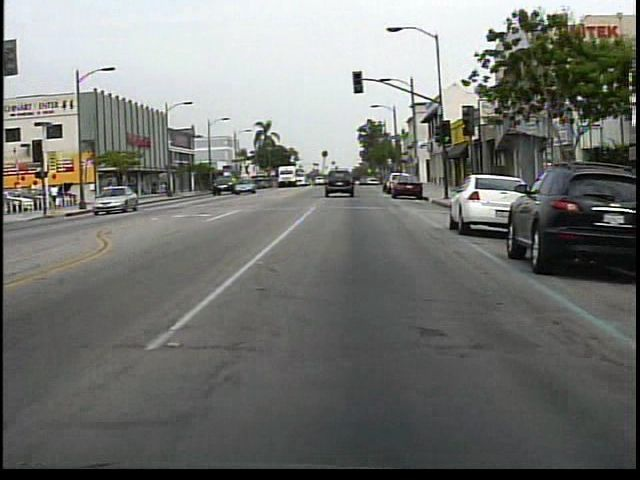person: (51, 182, 63, 211)
